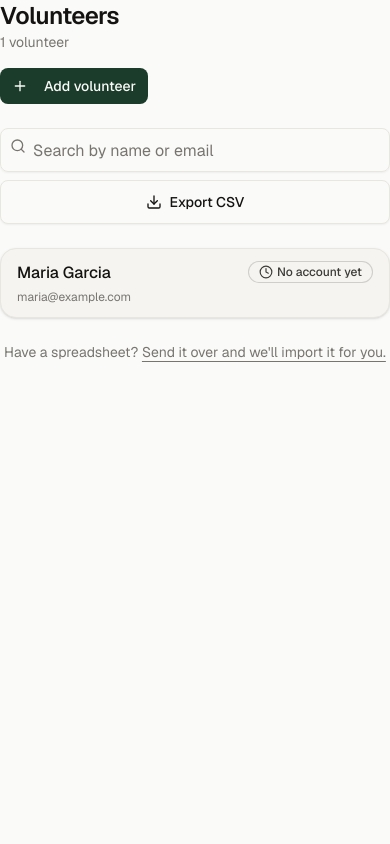
Test: VolunteersPage detail dialog (T27) › opens from the mobile card
Click the button with aria-label "View Maria Garcia".
click(64, 272)  # box [1, 249, 389, 317]
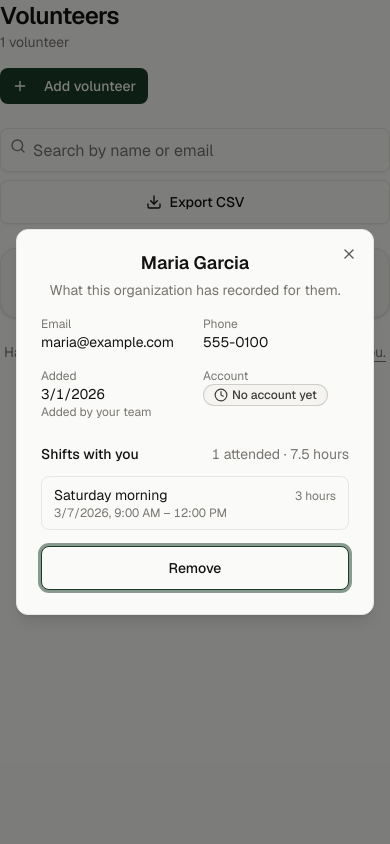
Expected: the dialog is shown, [16, 229, 374, 615]
